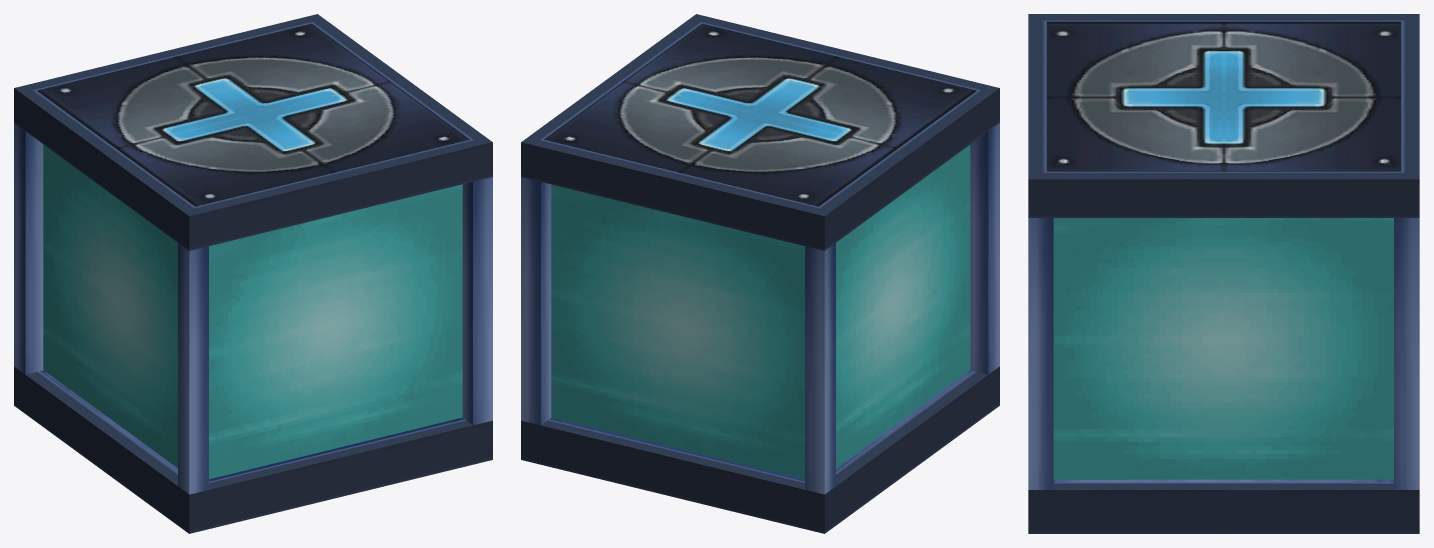
File: caja_nanotech.obj
3 renders of one model, left to right at view 1: azimuth 30°, elevation 25°; view 2: azimuth 150°, elevation 25°; view 3: azimuth 270°, elevation 25°, orthographic. The views are drawn at different scales.
Visible parts, largest first — view 1: Object01, Object02; view 2: Object01, Object02; view 3: Object01, Object02.
Boxes of the visible parts, x1=… form: Object01: x1=14, y1=14, x2=492, y2=533; Object02: x1=43, y1=144, x2=462, y2=479; Object01: x1=521, y1=14, x2=999, y2=533; Object02: x1=551, y1=145, x2=970, y2=479; Object01: x1=1028, y1=14, x2=1419, y2=533; Object02: x1=1053, y1=218, x2=1393, y2=479.
Bounding box in the file's own units: 24 × 24 × 24.
